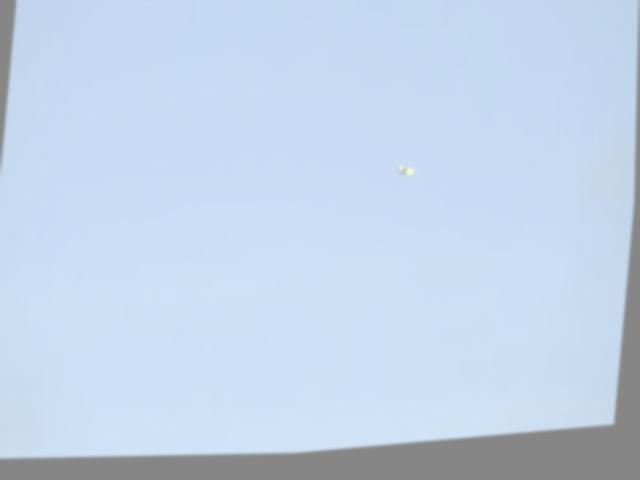plane: (396, 168, 419, 188)
